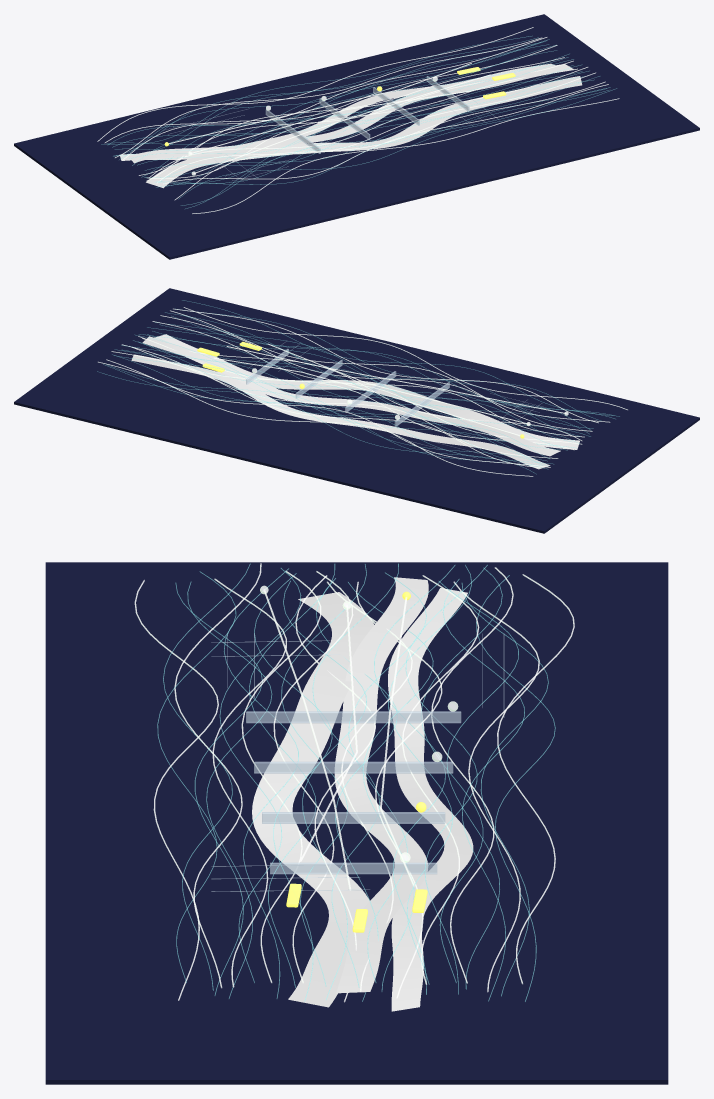
Rendered from windmap-workfield.glb.
The picture shows the model from 3 angles, top to bottom: view 1: azimuth 30°, elevation 25°; view 2: azimuth 150°, elevation 25°; view 3: azimuth 270°, elevation 25°; orthographic projection. The views are drawn at different scales.
Visible parts, largest first — view 1: deep currant background, wide teal workstream surface, cream-green decision surface, currant-plum embedded surface, windmap streamline 07, windmap streamline 34, windmap streamline 04, windmap streamline 10, windmap streamline 28, windmap streamline 31, windmap streamline 01, windmap streamline 13 (+8 smaller); view 2: deep currant background, cream-green decision surface, wide teal workstream surface, currant-plum embedded surface, windmap streamline 01, windmap streamline 34, windmap streamline 07, windmap streamline 31, windmap streamline 28, windmap streamline 04, windmap streamline 25, active routed path 1 (+7 smaller); view 3: deep currant background, wide teal workstream surface, cream-green decision surface, currant-plum embedded surface, decision gate 1, decision gate 2, decision gate 3, decision gate 4, windmap streamline 04, windmap streamline 31, windmap streamline 07, windmap streamline 01 (+9 smaller).
Part boxes in pixels (x1,y1,x2,y2): deep currant background: (14, 14, 699, 259); wide teal workstream surface: (146, 76, 582, 188); cream-green decision surface: (129, 64, 574, 163); currant-plum embedded surface: (120, 63, 554, 160); windmap streamline 07: (174, 81, 605, 200); windmap streamline 34: (97, 27, 533, 141); windmap streamline 04: (163, 84, 608, 184); windmap streamline 10: (157, 72, 595, 183); windmap streamline 28: (104, 37, 547, 143); windmap streamline 31: (115, 37, 541, 157); windmap streamline 01: (192, 98, 619, 213); windmap streamline 13: (149, 67, 588, 177); deep currant background: (14, 288, 699, 533); cream-green decision surface: (142, 336, 560, 456); wide teal workstream surface: (154, 334, 579, 449); currant-plum embedded surface: (131, 354, 550, 469); windmap streamline 01: (183, 307, 627, 410); windmap streamline 34: (98, 361, 533, 476); windmap streamline 07: (170, 310, 610, 422); windmap streamline 31: (106, 359, 550, 467); windmap streamline 28: (111, 351, 540, 467); windmap streamline 04: (173, 308, 598, 423); windmap streamline 25: (121, 344, 558, 458); active routed path 1: (226, 346, 566, 413); deep currant background: (45, 562, 668, 1084); wide teal workstream surface: (252, 592, 373, 1007); cream-green decision surface: (334, 577, 428, 993); currant-plum embedded surface: (388, 588, 473, 1011); decision gate 1: (246, 711, 461, 723); decision gate 2: (254, 761, 453, 773); decision gate 3: (262, 812, 445, 823); decision gate 4: (270, 862, 437, 874); windmap streamline 04: (174, 563, 261, 988); windmap streamline 31: (453, 581, 539, 992); windmap streamline 07: (212, 578, 286, 987); windmap streamline 01: (134, 580, 218, 1000).
Size of the model in its own units: 18.5 by 1.11 by 9.4.
